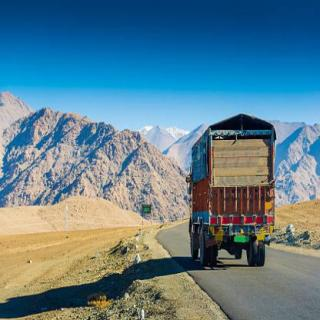Normal_vehicle: (185, 112, 281, 276)
